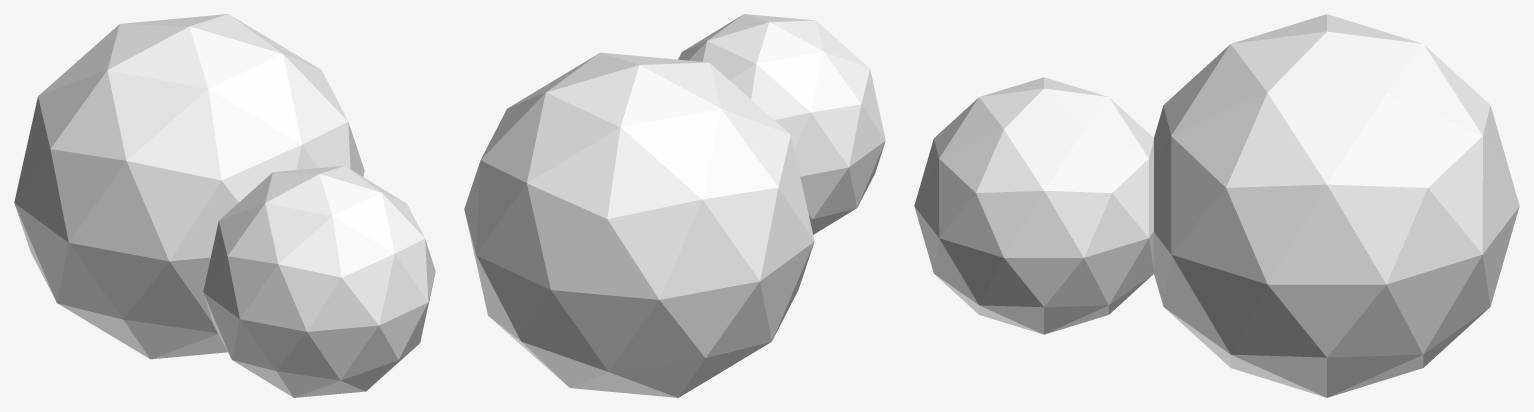
Rendered from hat-ballstack.glb.
3 renders of one model, left to right at view 1: azimuth 30°, elevation 25°; view 2: azimuth 150°, elevation 25°; view 3: azimuth 270°, elevation 25°, orthographic. The views are drawn at different scales.
Parts seen in each view (by area): view 1: obj2, obj3; view 2: obj2, obj3; view 3: obj2, obj3.
Boxes of the visible parts, x1,y1,x2,y2 form: obj2: (14, 14, 364, 359); obj3: (203, 166, 435, 397); obj2: (464, 52, 814, 397); obj3: (678, 14, 885, 234); obj2: (1154, 14, 1519, 397); obj3: (914, 77, 1153, 334).
Size of the model in its own units: 0.739 by 0.7651 by 1.2.
1 material, 1 textured.
